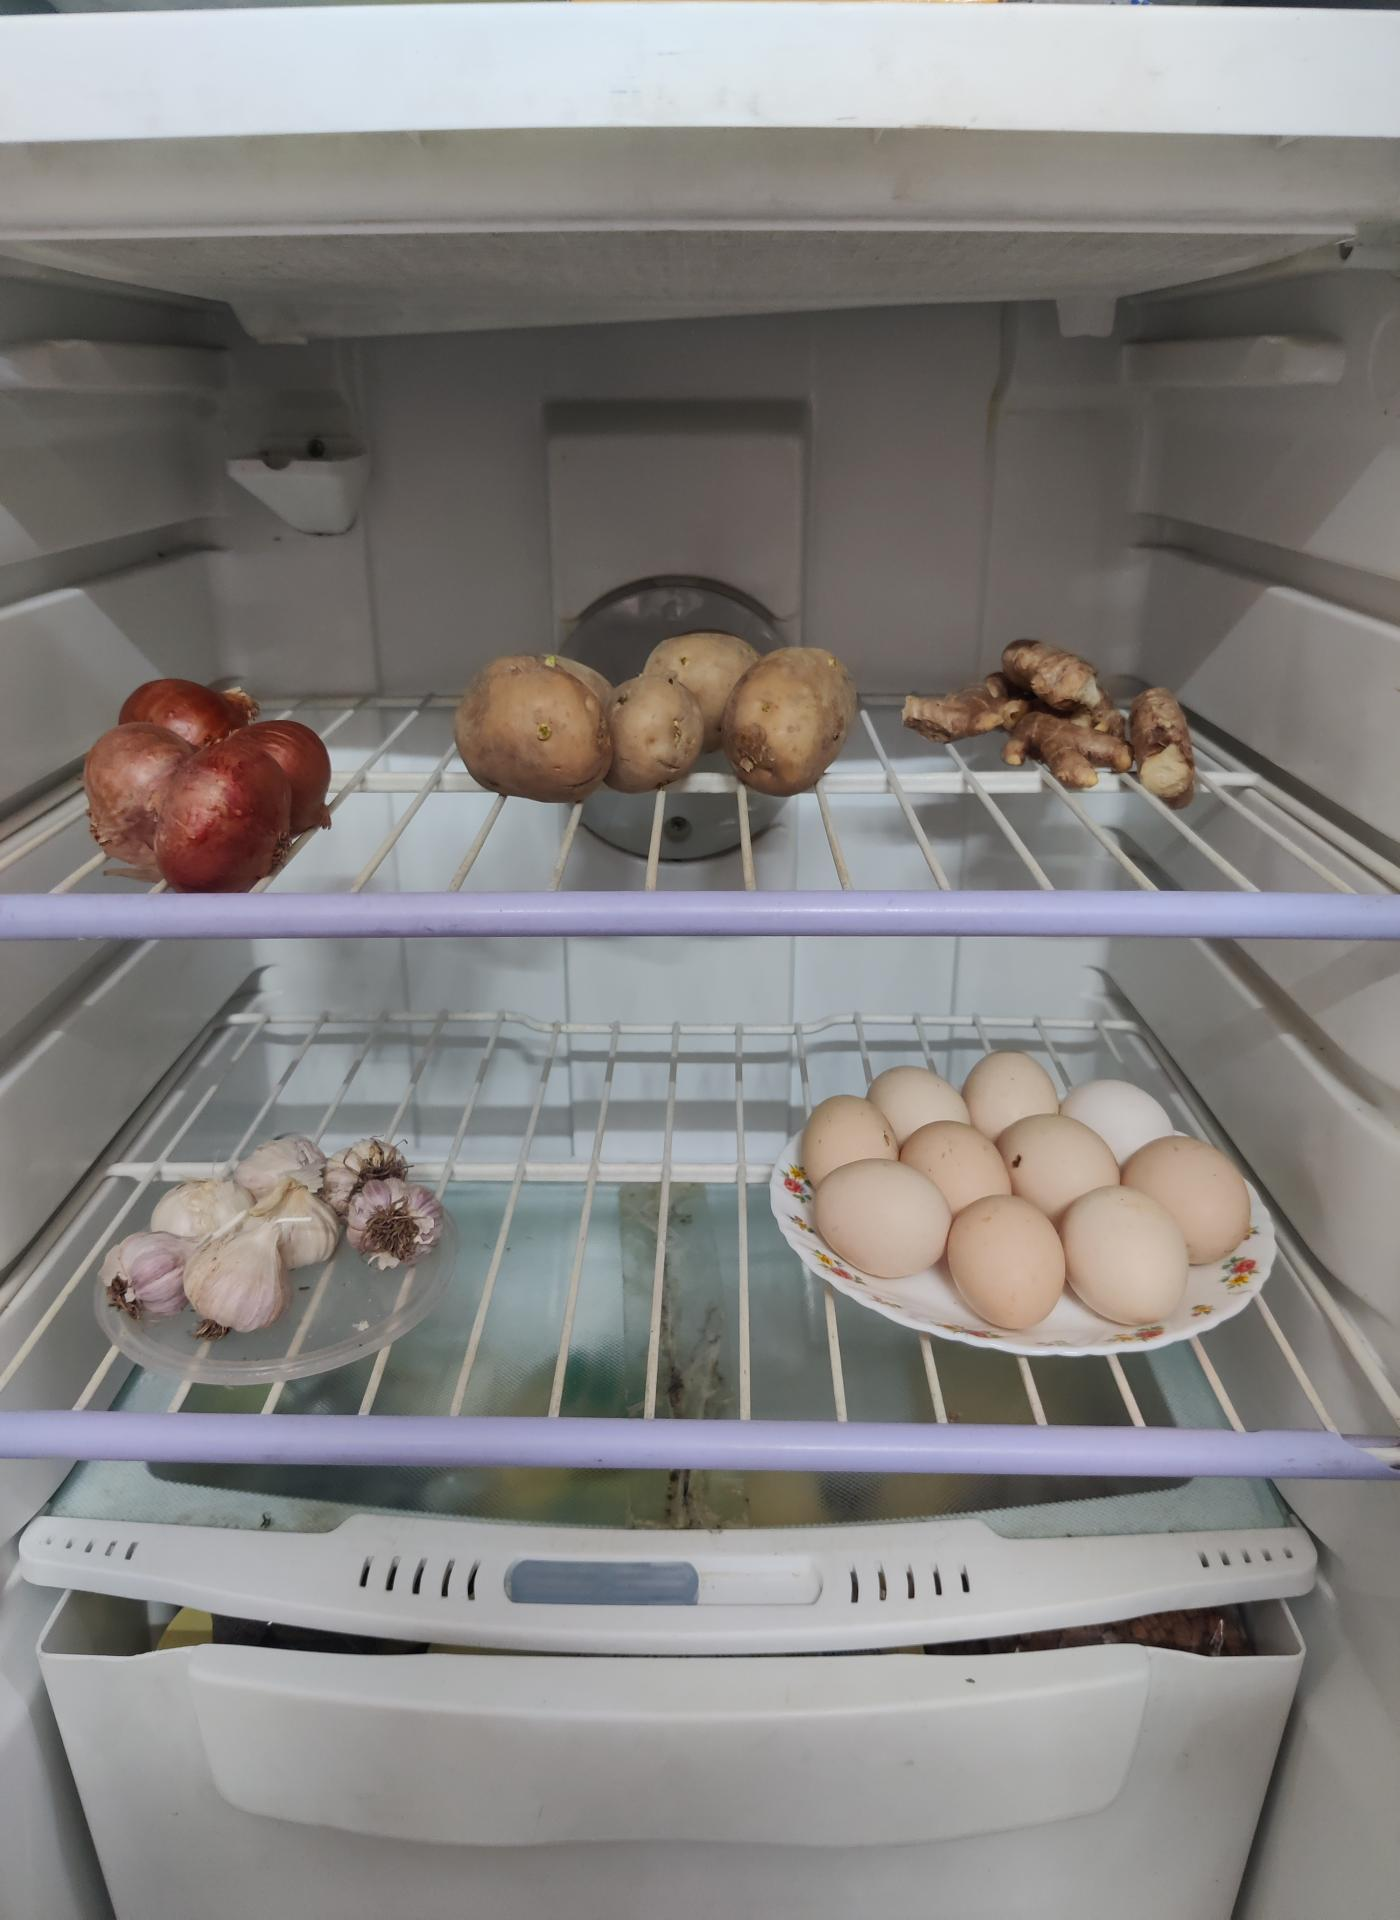egg: (790, 1049, 1251, 1340)
garlic: (104, 1130, 376, 1328)
ginger: (902, 641, 1203, 793)
onion: (82, 677, 334, 891)
potato: (453, 623, 859, 798)
